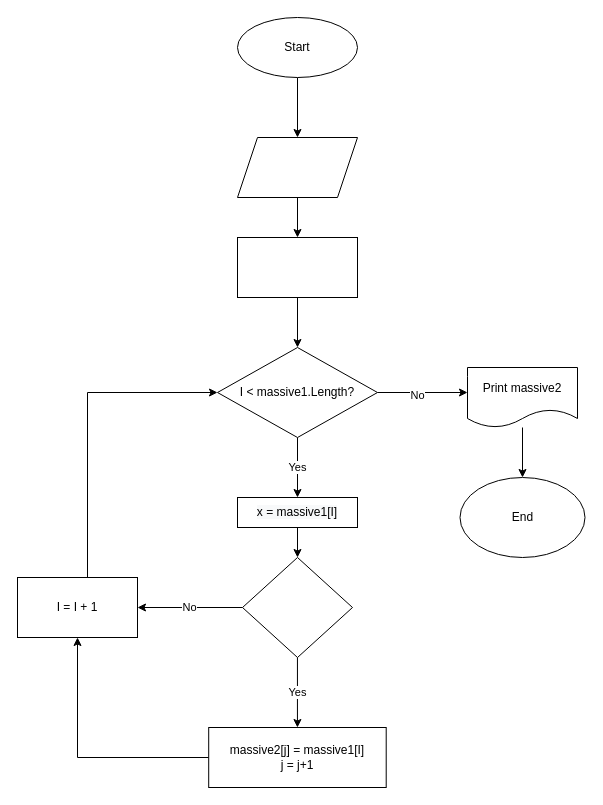
The diagram is 603 pixels wide and 805 high, and some of its shapes have lost their labels. The box of each missing label's shape, as (x1, y1, x2, y2) in pixels:
I = 0 j = 0: (236, 236, 358, 298)
massive1 massive2: (236, 136, 358, 198)
x.Length <= 3?: (242, 556, 352, 658)
